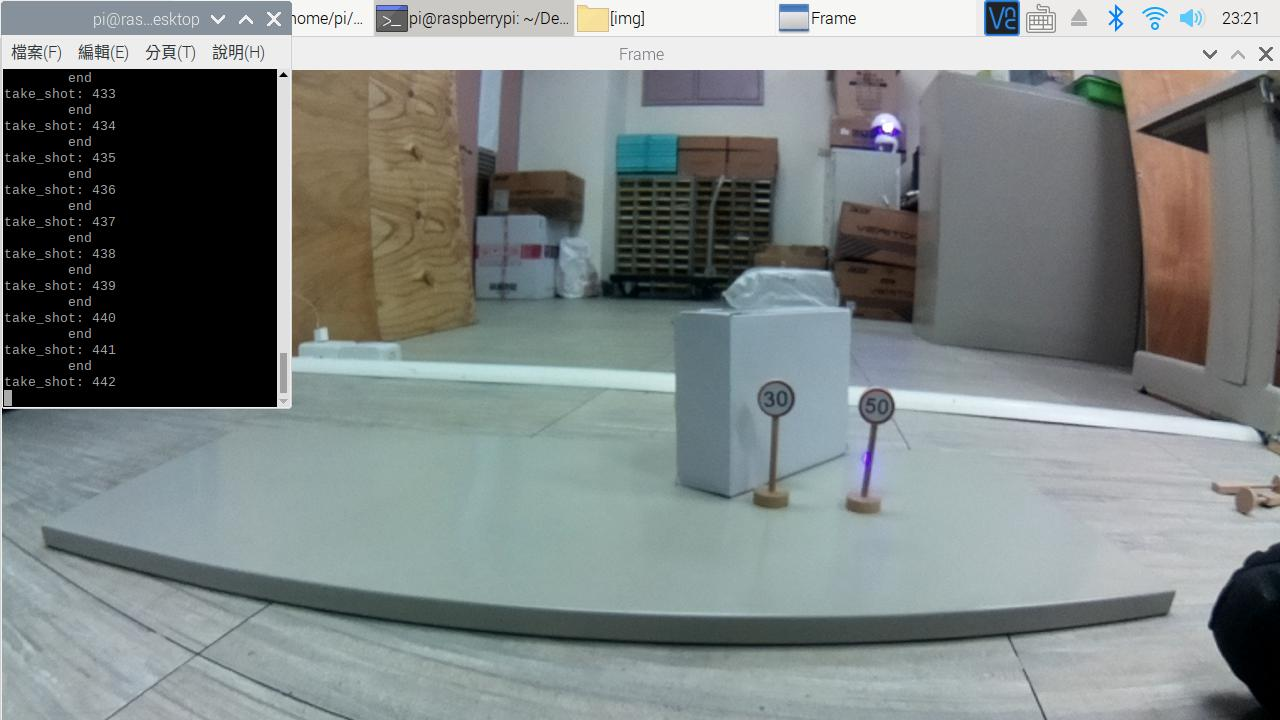Speed50: (743, 379, 803, 424), (856, 377, 899, 430)
